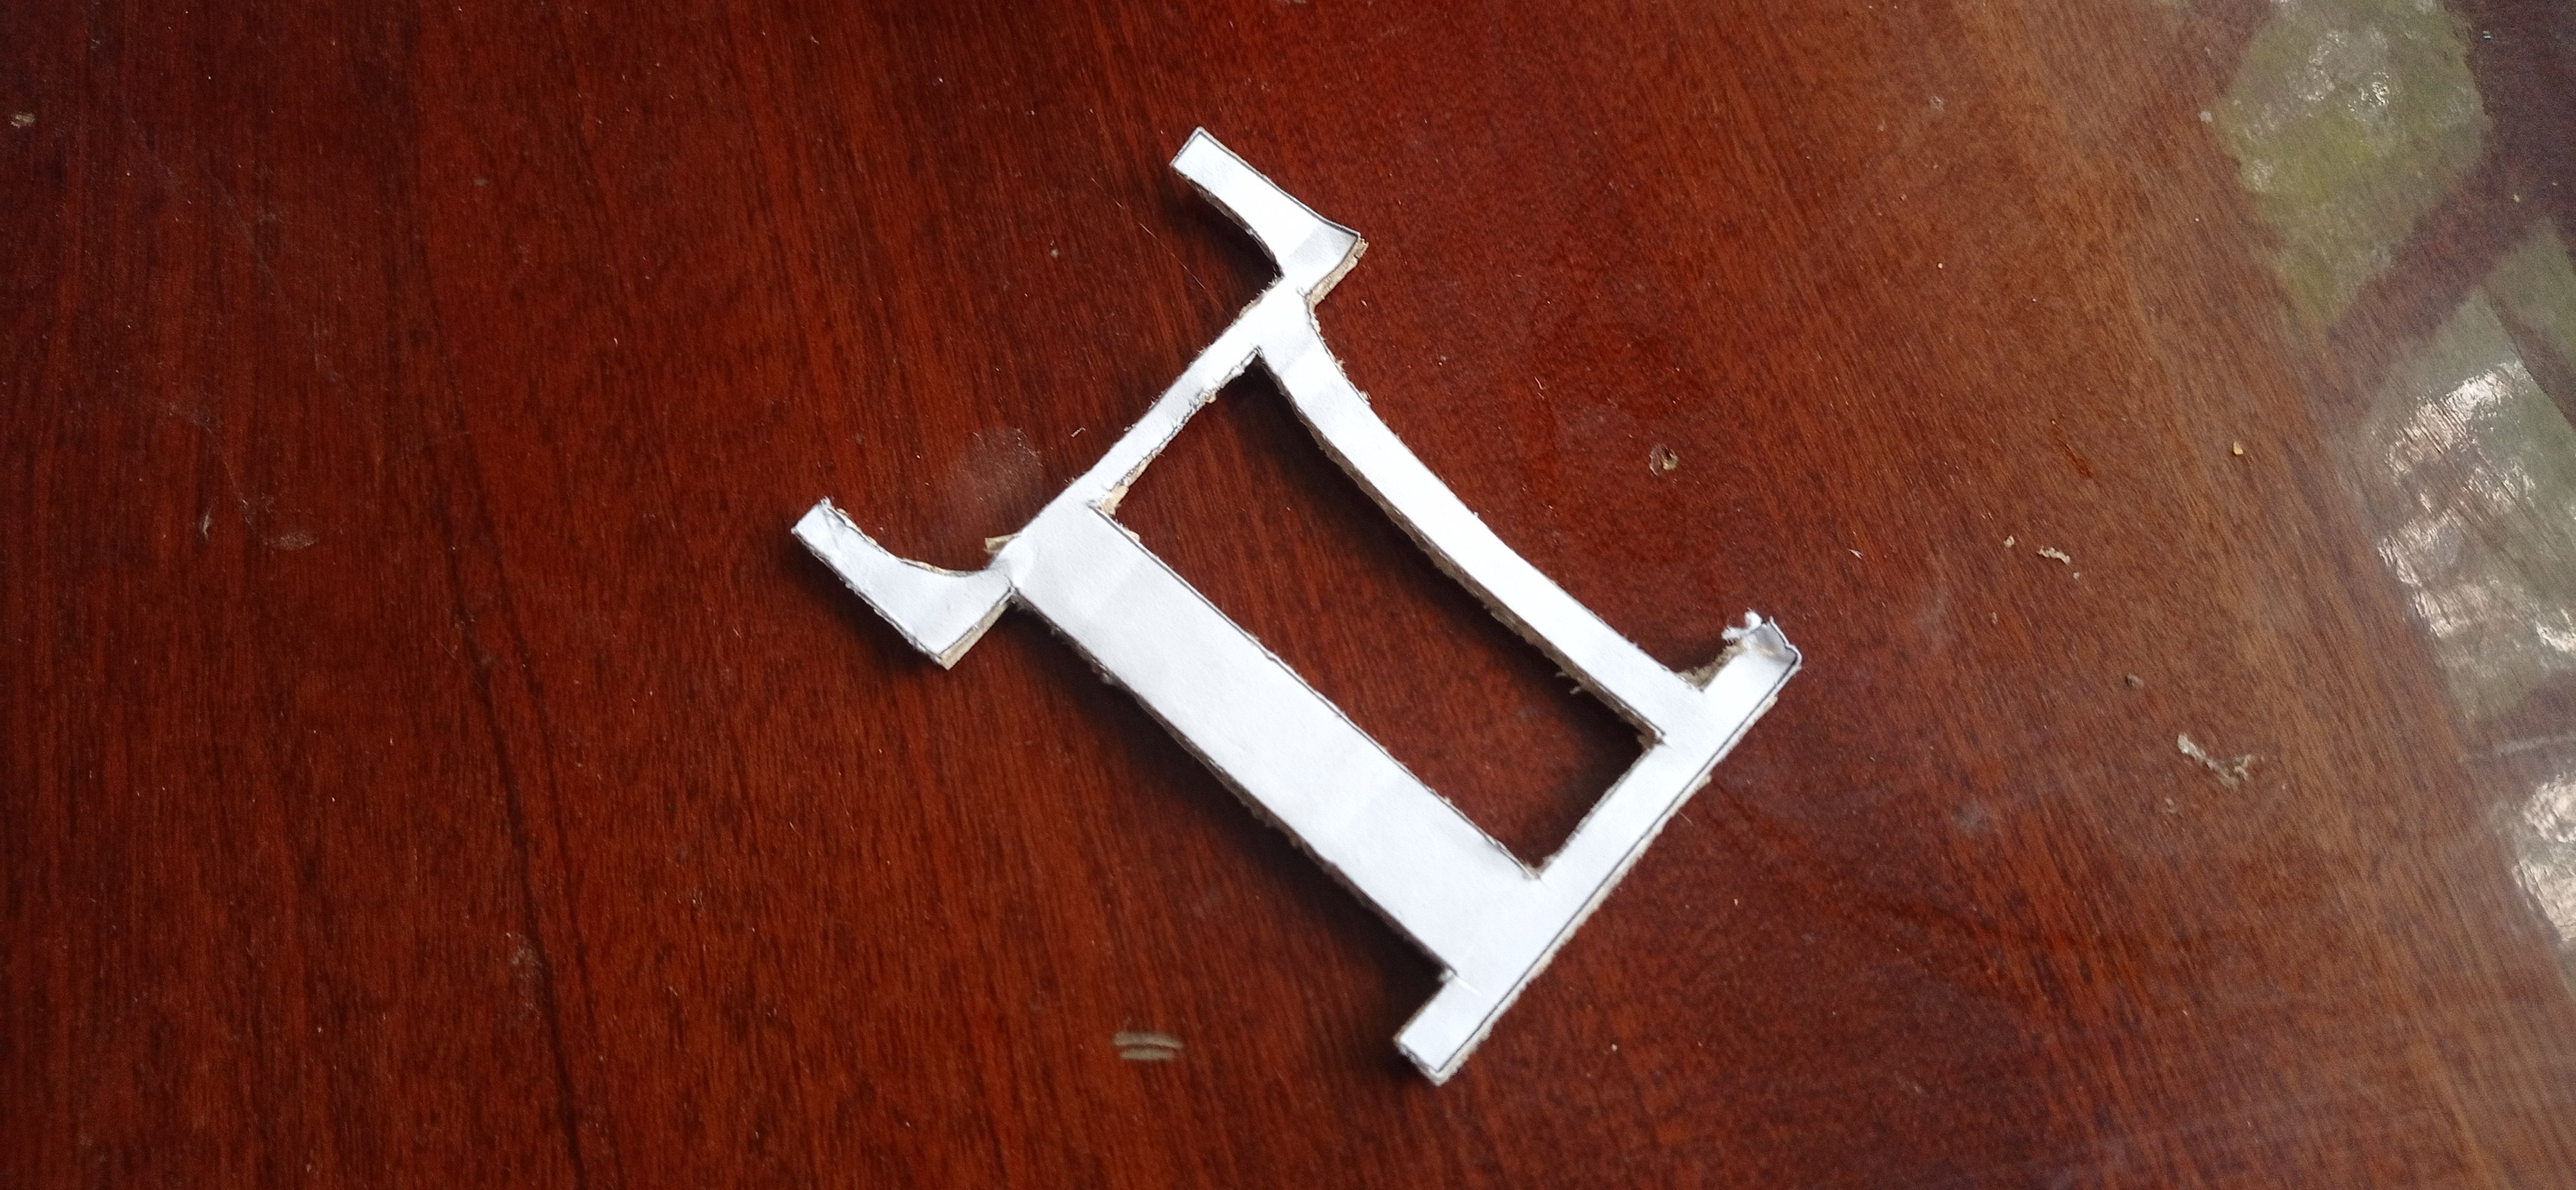d: (790, 118, 1799, 1088)
